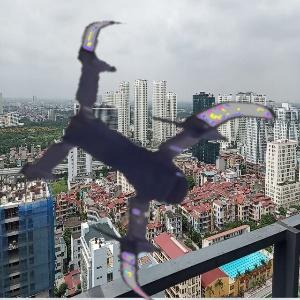drone: (19, 39, 281, 300)
